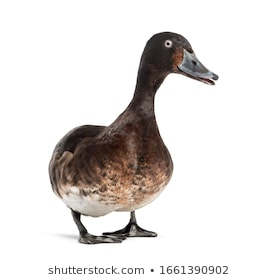duck: (38, 7, 220, 252)
